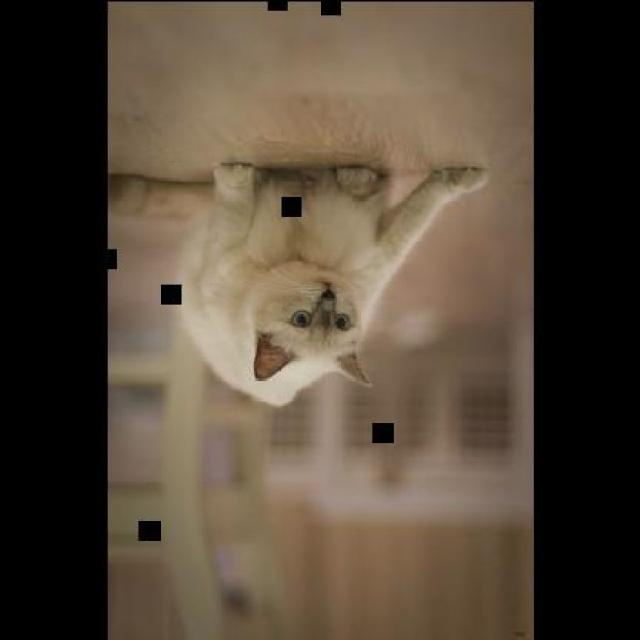unauthorized: (108, 158, 489, 408)
